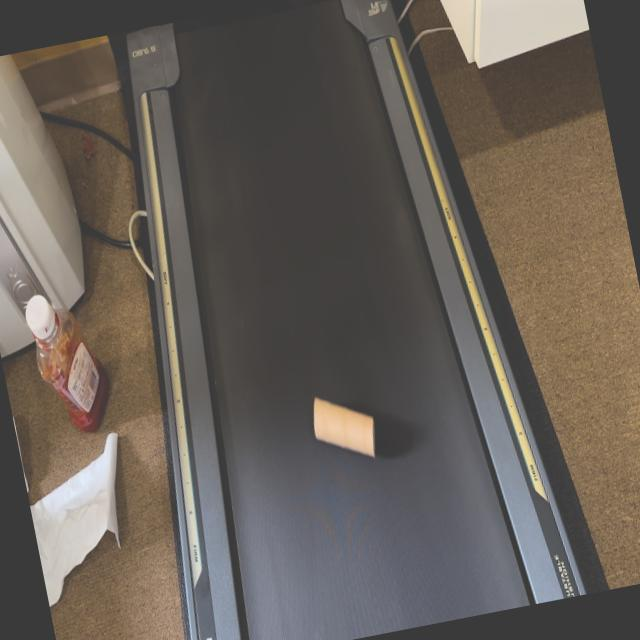Trash: (303, 372, 387, 476)
